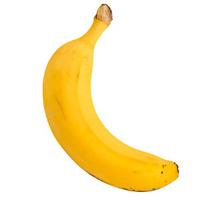banane: (40, 5, 183, 192)
